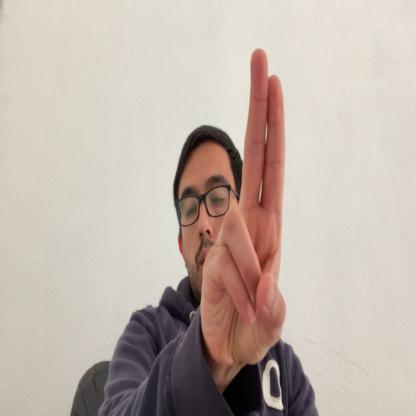U: (200, 48, 287, 372)
